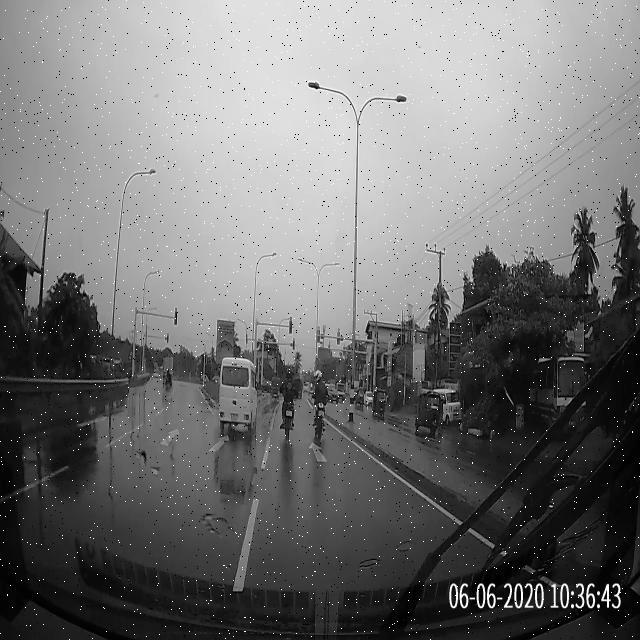forward: (257, 437, 377, 473)
